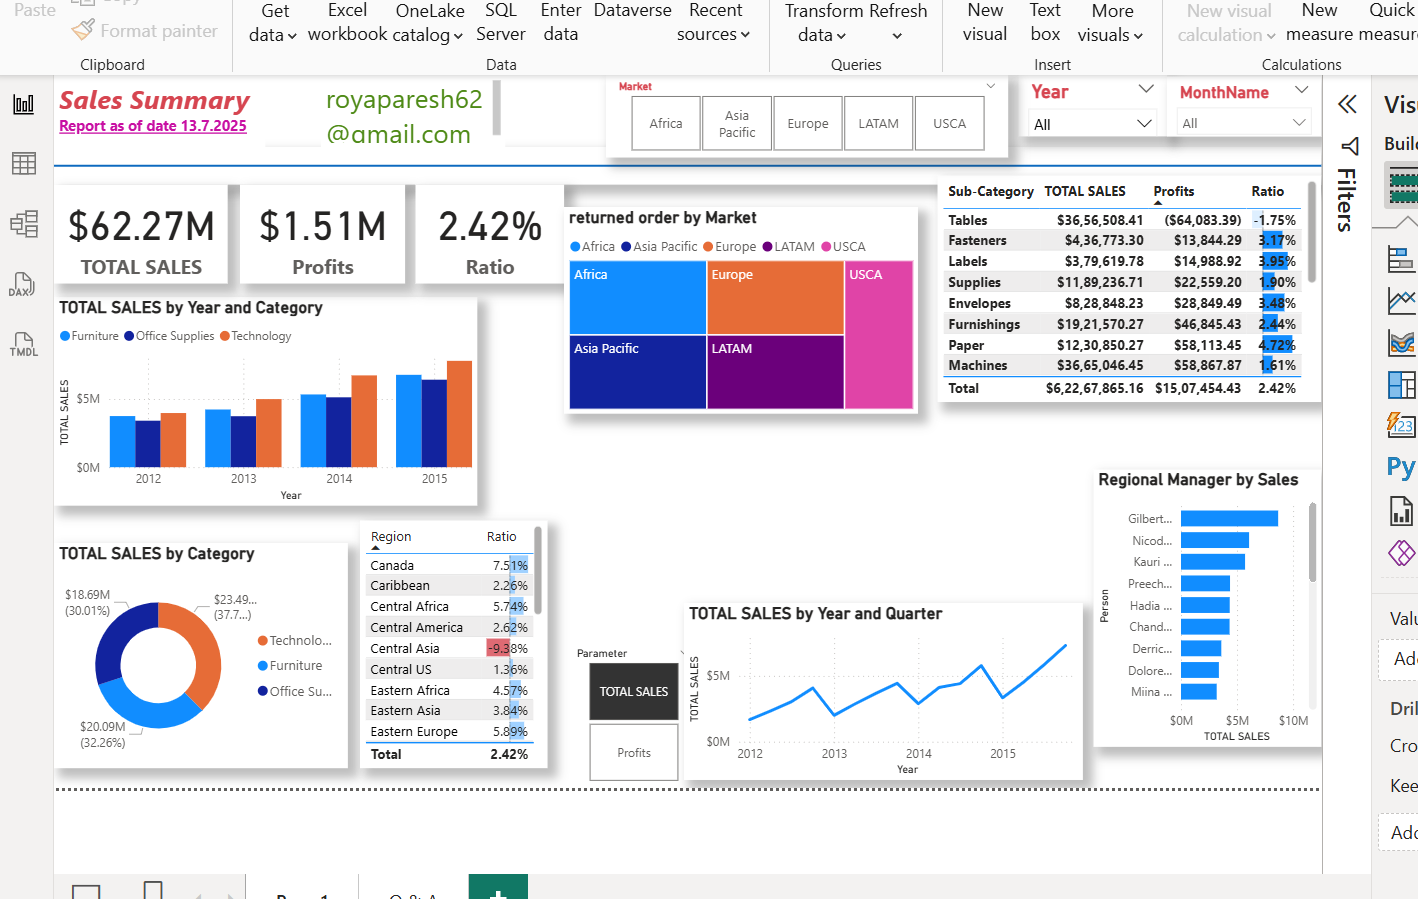

The page's visual inventory and layout, read from the dashboard file:
{"tool":"powerbi","page":{"name":"Page 1","canvas":[1280,720],"ordinal":0},"visuals":[{"type":"shape","box":[0,72.7,1279.5,37.9],"z":0},{"type":"textbox","box":[0,0,213.5,83.3],"z":1000},{"type":"textbox","box":[0,472.5,542,150],"z":2000},{"type":"clusteredColumnChart","fields":{"Y":["Table.Sales"],"Series":["Orders.Category"],"Category":["Date Table.Year"]},"box":[0,224.1,427,210.5],"z":3000},{"type":"donutChart","fields":{"Y":["Table.Sales"],"Category":["Orders.Category"]},"box":[0,472.4,296.8,227.1],"z":4000},{"type":"slicer","fields":{"Values":["Date Table.Date.Variation.Date Hierarchy.Year"]},"box":[973.6,0,149.9,62.1],"z":5000},{"type":"slicer","fields":{"Values":["Parameter 4.Parameter"]},"box":[514.8,572.4,139.3,146.9],"z":6000},{"type":"lineChart","fields":{"Y":["Table.TOTAL SALES"],"Category":["Date Table.Date.Variation.Date Hierarchy.Year","Date Table.Date.Variation.Date Hierarchy.Quarter"]},"box":[636,533,402.8,178.7],"z":7000},{"type":"tableEx","fields":{"Values":["Orders.Region","Table.Ratio"]},"box":[308.9,449.7,189.3,249.8],"z":8000},{"type":"card","fields":{"Values":["Table.TOTAL SALES"]},"box":[0,110.5,175.6,99.9],"z":9000},{"type":"card","fields":{"Values":["Table.Profits"]},"box":[187.8,110.5,166.6,99.9],"z":10000},{"type":"card","fields":{"Values":["Table.Ratio"]},"box":[364.9,110.5,149.9,99.9],"z":11000},{"type":"tableEx","fields":{"Values":["Orders.Sub-Category","Table.TOTAL SALES","Table.Profits","Table.Ratio"]},"box":[891.9,101.5,387.6,228.6],"z":12000},{"type":"slicer","fields":{"Values":["Date Table.MonthName"]},"box":[1123.5,1.5,156,60.6],"z":13000},{"type":"treemap","fields":{"Values":["Table.order return"],"Group":["Orders.Market"]},"box":[514.8,133.3,357.4,209],"z":14000},{"type":"slicer","fields":{"Values":["Orders.Market"]},"box":[557.2,0,405.8,83.3],"z":15000},{"type":"clusteredBarChart","title":"Regional Manager by Sales","fields":{"Y":["Table.TOTAL SALES"],"Category":["People.Person"]},"box":[1049.3,398.2,230.2,280.1],"z":16000},{"type":"textbox","box":[269.5,0,186.2,72.7],"z":17000}]}

Visuals, with their boxes on the page's 1280x720 design canvas (x1, y1, x2, y2). These are canvas units, not pixel positions in the 1418x899 screenshot, which may show the page scaled, cropped or inside an application window:
shape: bbox=(0, 73, 1280, 111)
textbox: bbox=(0, 0, 214, 83)
textbox: bbox=(0, 472, 542, 622)
clusteredColumnChart - Table.Sales x Orders.Category: bbox=(0, 224, 427, 435)
donutChart - Table.Sales x Orders.Category: bbox=(0, 472, 297, 700)
slicer - Date Table.Date.Variation.Date Hierarchy.Year: bbox=(974, 0, 1124, 62)
slicer - Parameter 4.Parameter: bbox=(515, 572, 654, 719)
lineChart - Table.TOTAL SALES x Date Table.Date.Variation.Date Hierarchy.Year: bbox=(636, 533, 1039, 712)
tableEx - Orders.Region x Table.Ratio: bbox=(309, 450, 498, 700)
card - Table.TOTAL SALES: bbox=(0, 110, 176, 210)
card - Table.Profits: bbox=(188, 110, 354, 210)
card - Table.Ratio: bbox=(365, 110, 515, 210)
tableEx - Orders.Sub-Category x Table.TOTAL SALES: bbox=(892, 102, 1280, 330)
slicer - Date Table.MonthName: bbox=(1124, 2, 1280, 62)
treemap - Table.order return x Orders.Market: bbox=(515, 133, 872, 342)
slicer - Orders.Market: bbox=(557, 0, 963, 83)
"Regional Manager by Sales" clusteredBarChart: bbox=(1049, 398, 1280, 678)
textbox: bbox=(270, 0, 456, 73)
